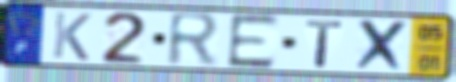2: (101, 10, 150, 67)
E: (225, 13, 282, 71)
K: (50, 10, 94, 63)
R: (165, 10, 224, 69)
T: (303, 18, 347, 70)
X: (351, 17, 411, 74)
